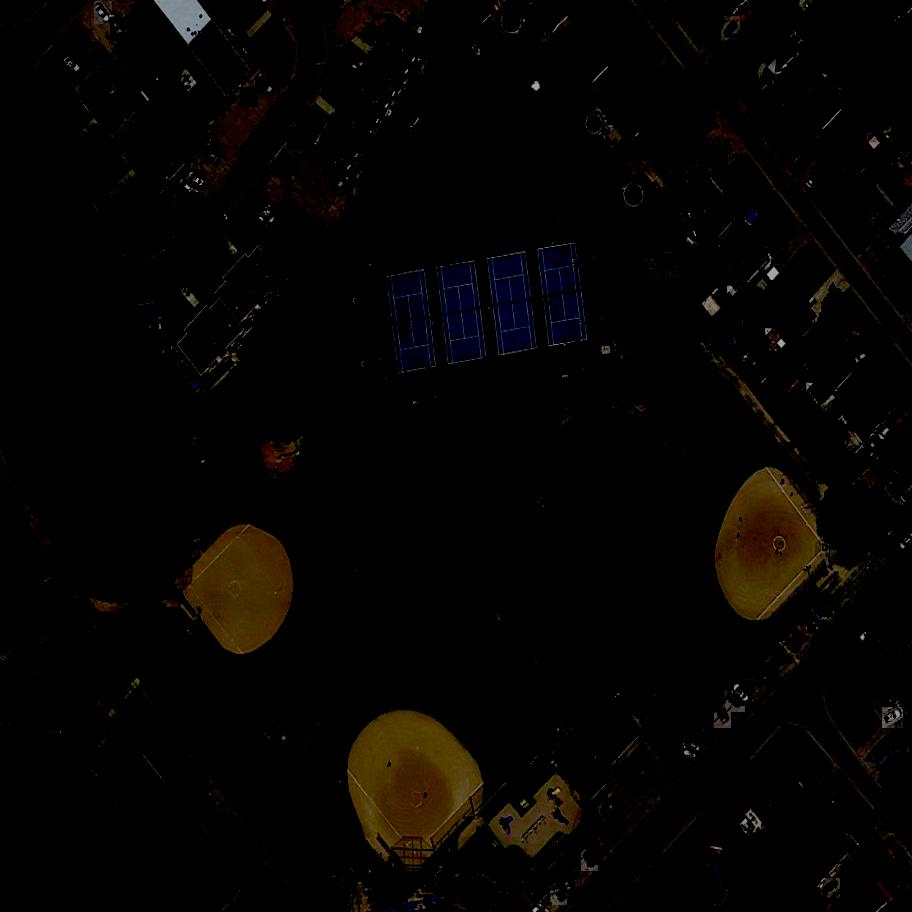ship: (743, 203, 764, 231)
small-vehicle: (731, 680, 756, 707), (875, 746, 900, 772), (330, 172, 355, 197), (663, 755, 687, 779), (43, 544, 64, 571), (881, 707, 908, 728), (257, 202, 279, 227), (721, 16, 743, 41), (722, 691, 747, 713), (770, 240, 792, 264), (250, 193, 271, 218), (548, 880, 568, 906), (713, 702, 733, 728), (682, 734, 705, 756), (758, 76, 782, 97), (849, 348, 874, 368), (753, 665, 775, 687), (772, 643, 794, 665), (707, 148, 730, 169), (94, 1, 115, 24), (63, 55, 86, 76), (819, 879, 842, 899), (819, 595, 839, 618), (267, 210, 285, 235), (8, 481, 29, 502), (239, 87, 260, 108), (876, 424, 897, 445), (201, 145, 223, 165), (83, 41, 103, 63), (186, 171, 209, 190), (587, 841, 604, 866), (158, 339, 179, 359), (600, 826, 621, 846), (788, 627, 808, 648), (737, 5, 759, 24), (794, 134, 813, 156), (581, 850, 600, 872), (269, 7, 289, 27), (243, 186, 261, 208), (255, 77, 277, 95), (110, 18, 127, 41), (559, 873, 576, 896), (179, 178, 199, 197), (807, 611, 824, 633), (594, 836, 612, 856), (372, 13, 393, 30), (776, 699, 797, 716), (680, 740, 695, 762), (812, 604, 830, 622), (797, 621, 816, 638), (147, 311, 164, 323), (146, 323, 164, 333)
